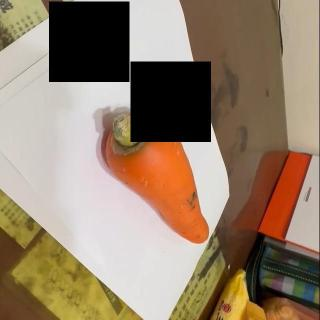carrot: (103, 108, 211, 244)
